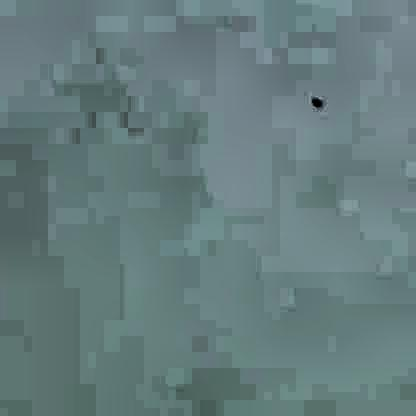golfball: (308, 94, 319, 104)
